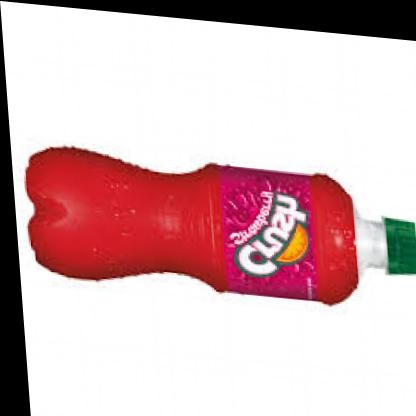trash: (26, 147, 357, 303)
